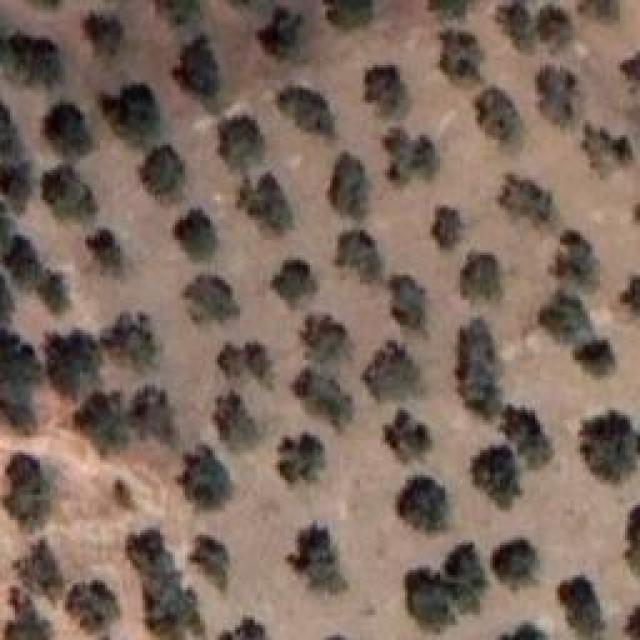Tree: (125, 530, 205, 640), (455, 318, 503, 418), (0, 328, 40, 434), (580, 410, 636, 482), (288, 525, 347, 593), (290, 363, 349, 429), (3, 453, 52, 531), (72, 392, 130, 457), (48, 330, 101, 401), (103, 85, 161, 148), (178, 445, 233, 510), (362, 340, 420, 401), (0, 103, 31, 214), (237, 175, 295, 233), (473, 445, 523, 510), (500, 405, 550, 470), (405, 567, 454, 633), (13, 538, 64, 601), (0, 35, 62, 85), (383, 128, 439, 183), (173, 35, 219, 101), (557, 575, 605, 637), (43, 168, 98, 222), (217, 115, 265, 175), (65, 580, 120, 632), (182, 275, 240, 324), (45, 103, 93, 161), (450, 538, 488, 610), (583, 123, 634, 176), (398, 477, 447, 532), (213, 393, 259, 451), (133, 385, 177, 445), (328, 154, 369, 218), (383, 410, 433, 462), (305, 315, 358, 364), (535, 65, 578, 125), (140, 144, 186, 200), (100, 314, 151, 364), (280, 88, 333, 136), (500, 175, 553, 223), (5, 587, 52, 640), (475, 88, 521, 142), (540, 290, 595, 335), (278, 432, 327, 482), (338, 230, 384, 282), (5, 237, 46, 295), (553, 230, 596, 285), (493, 538, 539, 589), (258, 8, 303, 60), (175, 210, 219, 262), (190, 535, 229, 592), (273, 260, 319, 308), (218, 342, 272, 382), (365, 70, 410, 118), (463, 252, 504, 302), (393, 275, 427, 330), (440, 33, 478, 81), (538, 3, 572, 50), (573, 338, 615, 376), (85, 13, 121, 56), (495, 0, 531, 41), (88, 230, 123, 270), (325, 0, 373, 28), (433, 208, 464, 248), (154, 0, 200, 26), (40, 273, 71, 311), (625, 505, 640, 575), (578, 0, 620, 22), (500, 623, 549, 640), (620, 275, 640, 312), (430, 0, 473, 17), (620, 52, 640, 82)
